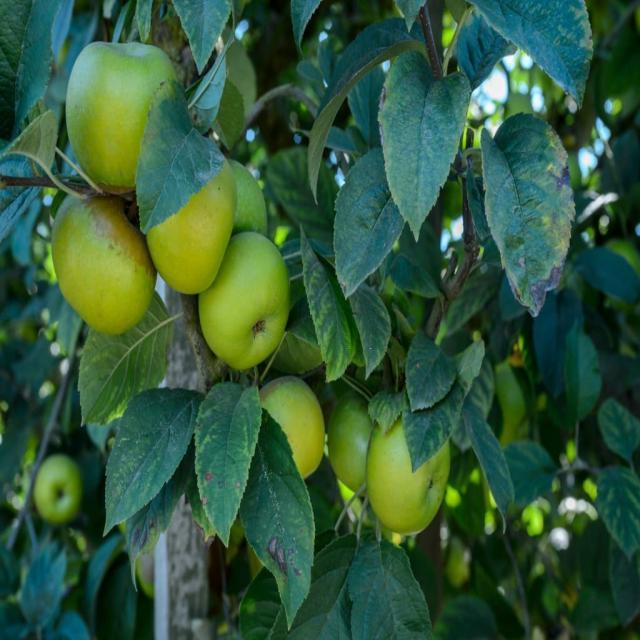Green Apple: (72, 36, 178, 184), (56, 172, 152, 334), (146, 155, 237, 294), (366, 413, 458, 534), (203, 235, 285, 368), (211, 144, 270, 243), (266, 378, 326, 474), (330, 397, 383, 489), (39, 448, 80, 532)
